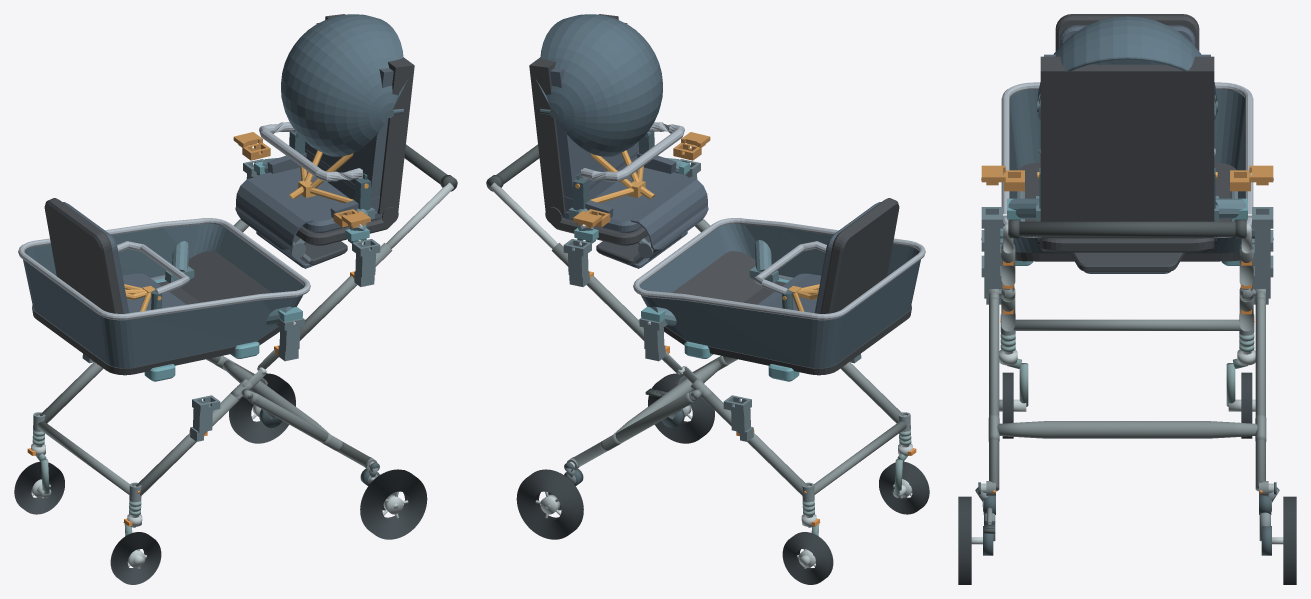
File: D20_w650_state1_wheel_S.glb
The picture shows the model from 3 angles, left to right: view 1: azimuth 30°, elevation 25°; view 2: azimuth 150°, elevation 25°; view 3: azimuth 270°, elevation 25°; orthographic projection. The views are drawn at different scales.
Visible parts, largest first — view 1: D20_Lower, D20_Upper, RL_tire.008, RR_tire.008, FL_tire.008, FR_tire.008, V46_rear_leg_-1.009, main_lower_-1.009, D20_Lower_Mount_M, front_fixed_round_tube.008, main_upper_-1.009, V46_rearbar.009 (+8 smaller); view 2: D20_Lower, D20_Upper, RR_tire.008, FR_tire.008, RL_tire.008, FL_tire.008, V46_rear_leg_1.009, main_lower_1.009, D20_Lower_Mount_M, front_fixed_round_tube.008, main_upper_1.009, V46_rearbar.009 (+8 smaller); view 3: D20_Upper, D20_Lower, V46_rearbar.009, round_handle.008, front_fixed_round_tube.008, V46_rear_leg_1.009, V46_rear_leg_-1.009, D20_Upper_Mount_H, RL_tire.008, RR_tire.008, Universal_Cabin_Receiver_H_1, Universal_Cabin_Receiver_H_-1 (+8 smaller).
Boxes of the visible parts, x1,y1,x2,y2 form: D20_Lower: (18, 198, 310, 381); D20_Upper: (235, 14, 414, 268); RL_tire.008: (360, 469, 427, 539); RR_tire.008: (229, 373, 295, 443); FL_tire.008: (110, 532, 161, 584); FR_tire.008: (14, 461, 64, 514); V46_rear_leg_-1.009: (250, 393, 370, 466); main_lower_-1.009: (136, 393, 241, 495); D20_Lower_Mount_M: (165, 241, 302, 326); front_fixed_round_tube.008: (37, 421, 129, 494); main_upper_-1.009: (299, 243, 392, 340); V46_rearbar.009: (222, 360, 330, 434); D20_Lower: (633, 198, 925, 381); D20_Upper: (529, 14, 708, 268); RR_tire.008: (516, 469, 583, 539); FR_tire.008: (782, 532, 833, 584); RL_tire.008: (648, 373, 714, 443); FL_tire.008: (879, 461, 929, 514); V46_rear_leg_1.009: (573, 393, 693, 466); main_lower_1.009: (702, 393, 807, 495); D20_Lower_Mount_M: (641, 240, 778, 326); front_fixed_round_tube.008: (814, 421, 906, 494); main_upper_1.009: (551, 243, 644, 340); V46_rearbar.009: (613, 360, 721, 434); D20_Upper: (1037, 16, 1217, 273); D20_Lower: (1001, 14, 1253, 265); V46_rearbar.009: (997, 421, 1257, 438); round_handle.008: (1008, 221, 1246, 236); front_fixed_round_tube.008: (1013, 319, 1241, 330); V46_rear_leg_1.009: (1255, 297, 1265, 491); V46_rear_leg_-1.009: (989, 297, 999, 491); D20_Upper_Mount_H: (1003, 196, 1251, 221); RL_tire.008: (958, 496, 971, 584); RR_tire.008: (1283, 496, 1296, 584); Universal_Cabin_Receiver_H_1: (1252, 207, 1273, 265); Universal_Cabin_Receiver_H_-1: (981, 207, 1002, 265).
Size of the model in its own units: 1.13 by 1.43 by 0.766.
